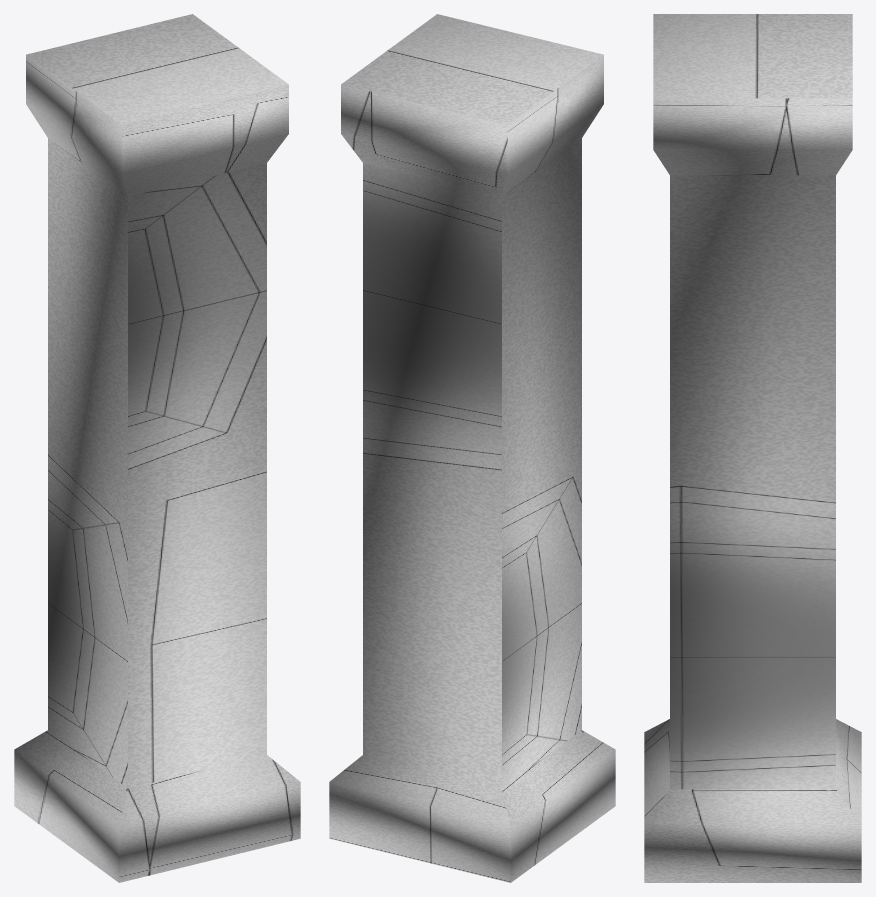
The model's file is Pillar.fbx.
3 renders of one model, left to right at view 1: azimuth 30°, elevation 25°; view 2: azimuth 150°, elevation 25°; view 3: azimuth 270°, elevation 25°, orthographic. The views are drawn at different scales.
Visible parts, largest first — view 1: Cube_077; view 2: Cube_077; view 3: Cube_077.
Part boxes in pixels (x1,y1,x2,y2): Cube_077: (14, 14, 300, 882); Cube_077: (329, 14, 615, 882); Cube_077: (644, 14, 861, 882).
Size of the model in its own units: 1527 by 6058 by 1527.
